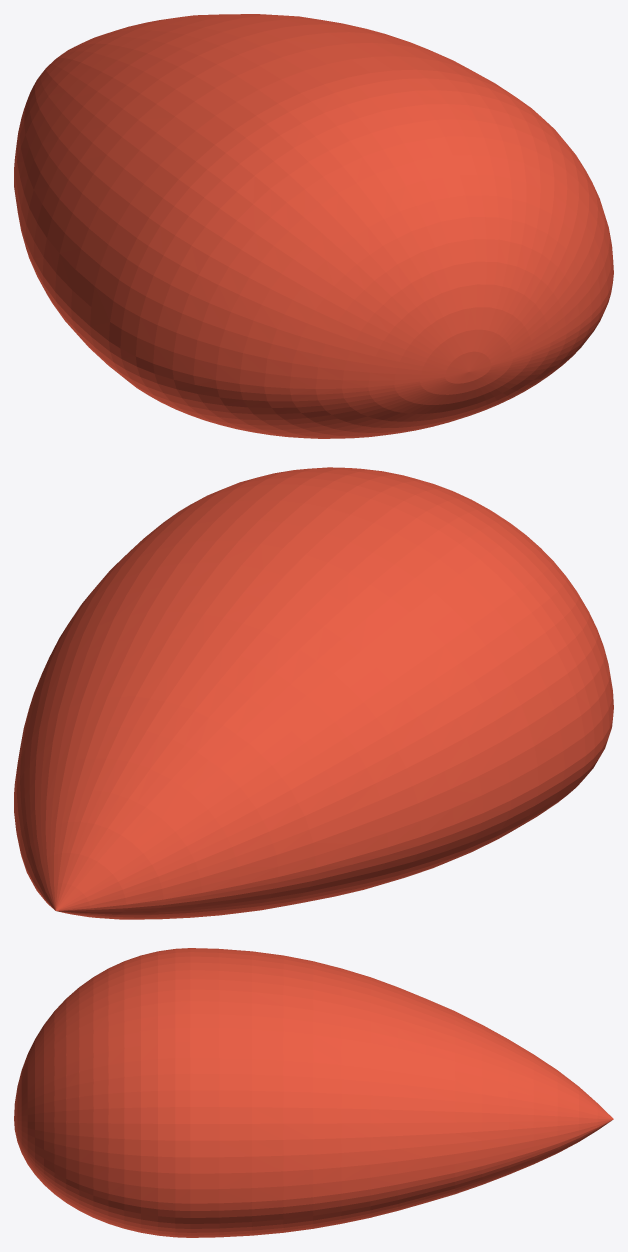
File: UserMarker.dae
The picture shows the model from 3 angles, top to bottom: view 1: azimuth 30°, elevation 25°; view 2: azimuth 150°, elevation 25°; view 3: azimuth 270°, elevation 25°; orthographic projection. The views are drawn at different scales.
Parts seen in each view (by area): view 1: Sphere; view 2: Sphere; view 3: Sphere.
Boxes of the visible parts, <box> form: Sphere: <box>14,14,613,438</box>; Sphere: <box>14,467,613,919</box>; Sphere: <box>14,948,613,1237</box>.
Bounding box in the file's own units: 1.62 × 2.44 × 1.04.
